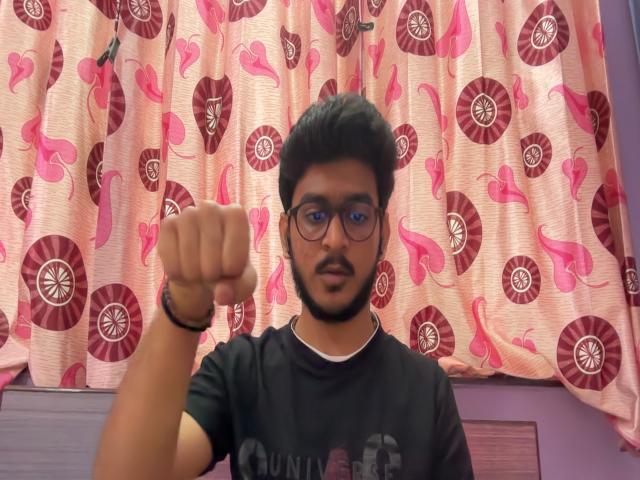Yes: (153, 202, 264, 322)
